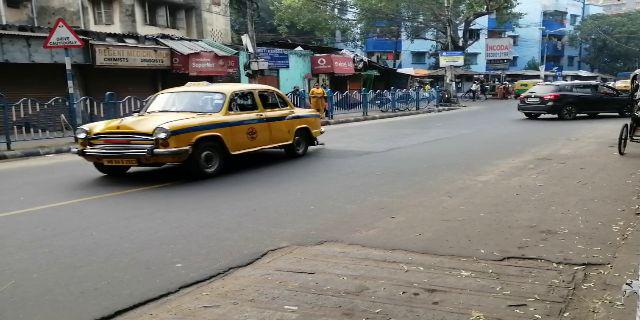Car: (70, 86, 326, 180), (517, 81, 627, 120)
